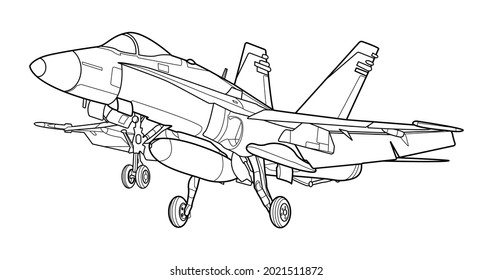airplane: (29, 29, 466, 233)
